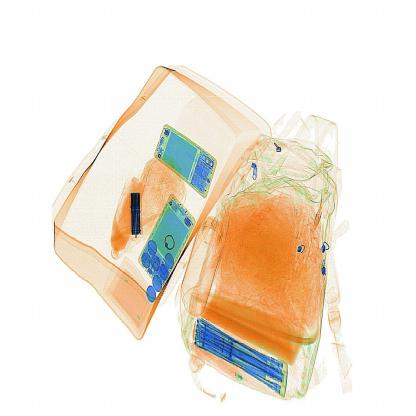scissors: (123, 179, 155, 241)
